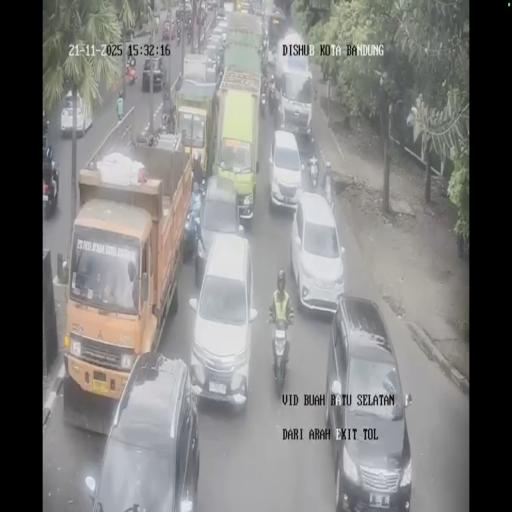car: (325, 297, 411, 507), (90, 351, 200, 509), (290, 190, 346, 316), (195, 174, 243, 278), (268, 128, 303, 214), (60, 90, 92, 138), (42, 136, 58, 217), (142, 55, 166, 92), (202, 42, 224, 82), (214, 16, 230, 42), (162, 18, 176, 42), (266, 46, 278, 73), (175, 2, 192, 20), (216, 2, 227, 19), (255, 4, 265, 18), (239, 1, 250, 13), (206, 0, 216, 11)
motorcycle: (270, 314, 292, 390), (161, 94, 174, 129), (307, 156, 318, 189), (258, 77, 267, 116), (267, 80, 276, 114), (125, 64, 136, 86), (176, 23, 182, 45), (186, 23, 192, 45), (128, 53, 136, 67)
truck: (172, 60, 217, 180), (274, 35, 313, 139), (222, 9, 266, 81), (268, 6, 286, 44)
